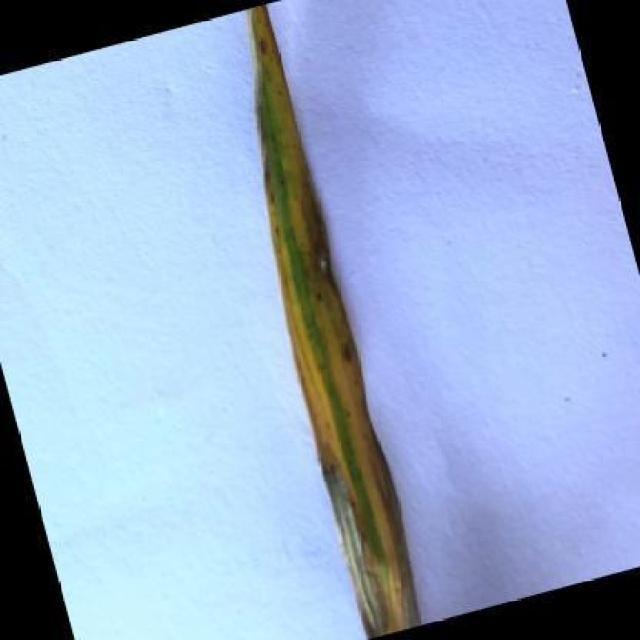Rice False Smut: (201, 3, 436, 639)
